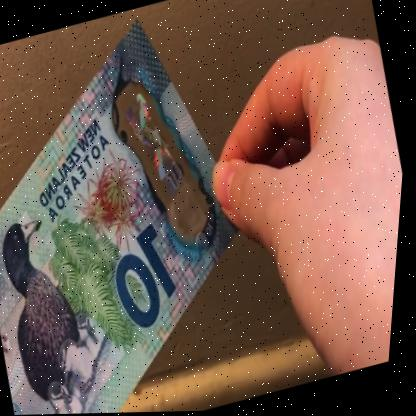10F: (114, 80, 201, 205)
